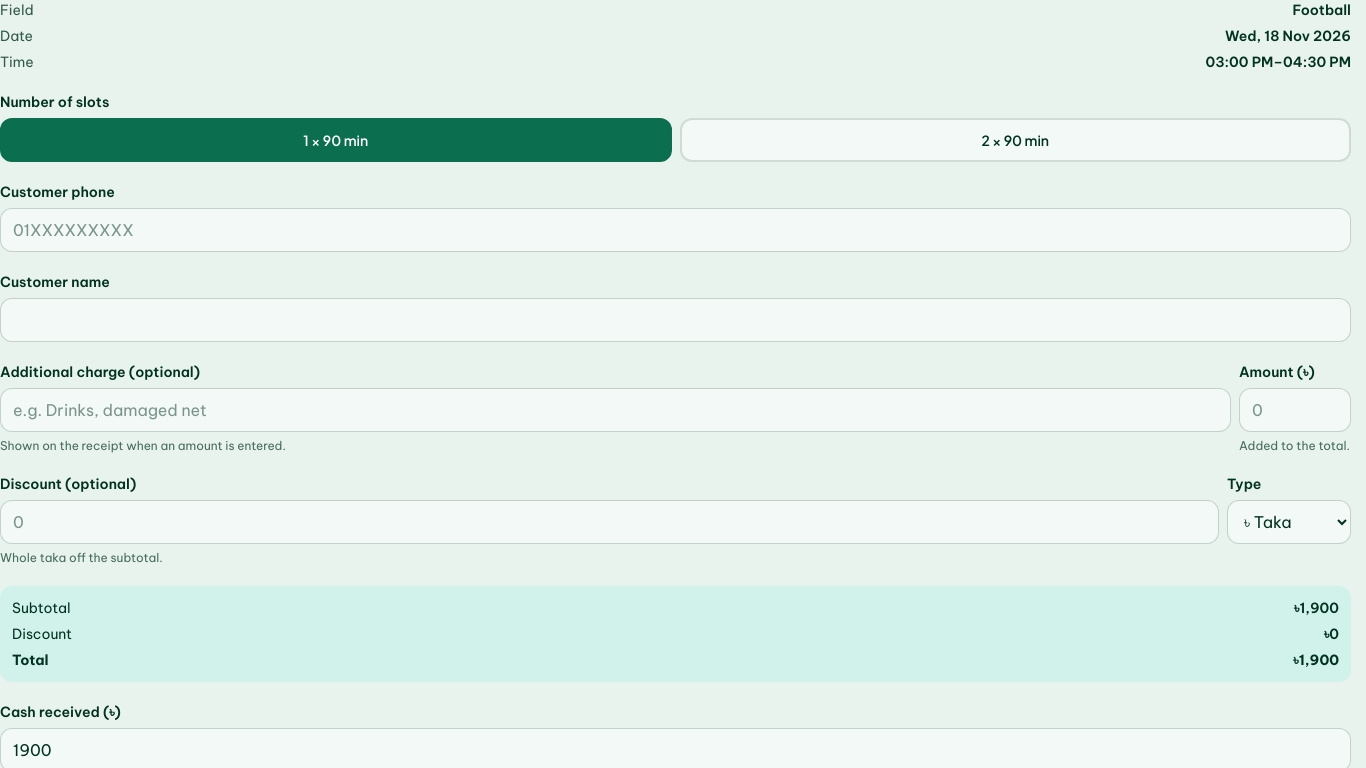
Test case: WalkInForm note › sends the note with the booking and shows it on the confirmation
In the field labelled "Customer phone": (676, 230) x1=0 y1=208 x2=1351 y2=252, type "01733334444"
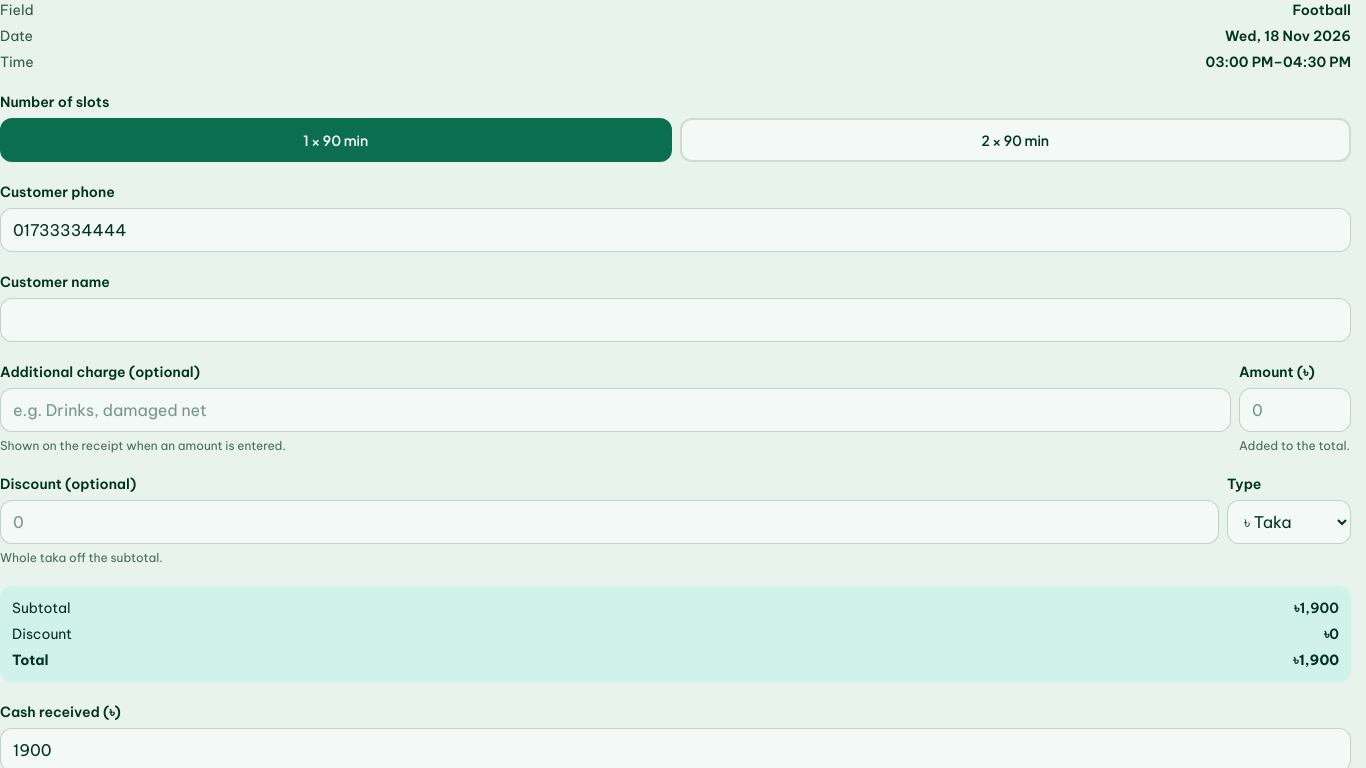
In the field labelled "Customer name": (676, 320) x1=0 y1=298 x2=1351 y2=342, type "Karim"
(page scrolled)
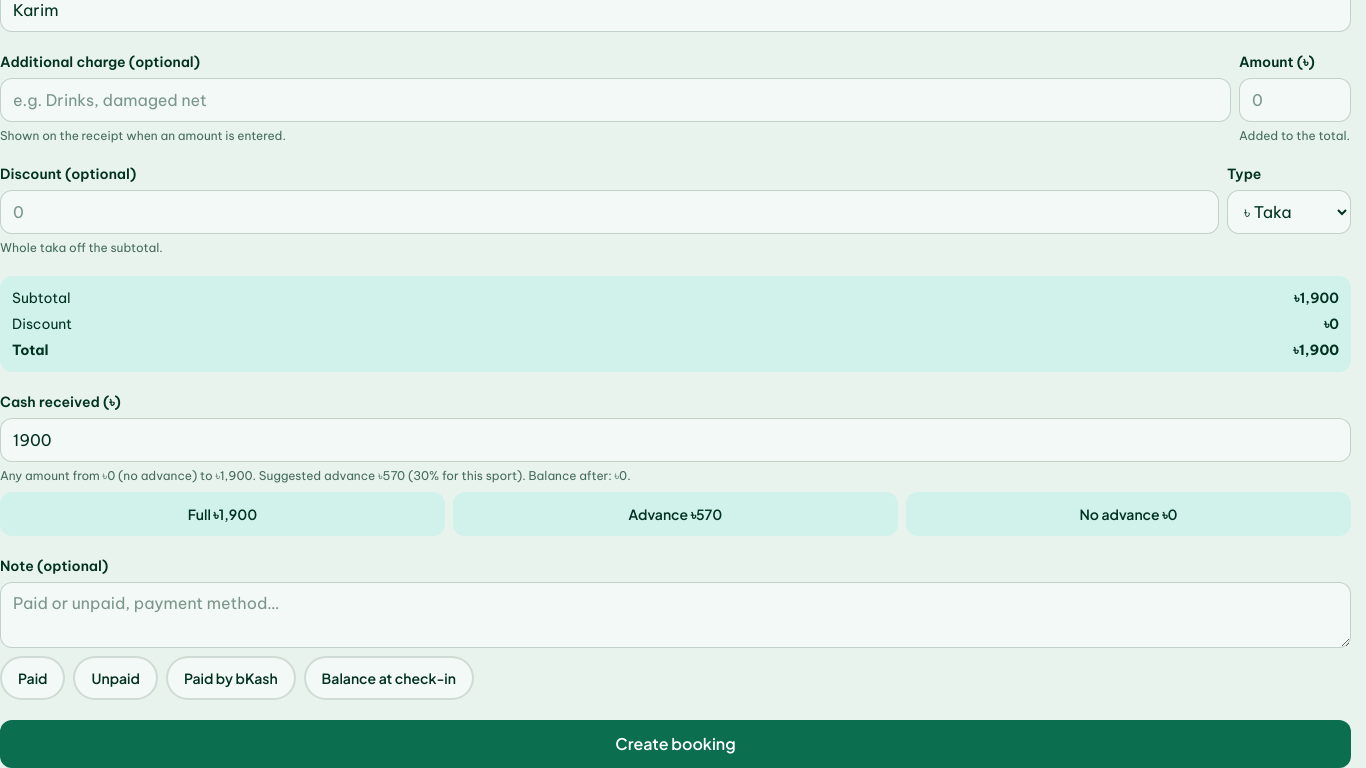
Click the button "Advance ৳570": (676, 514) x1=453 y1=492 x2=898 y2=536
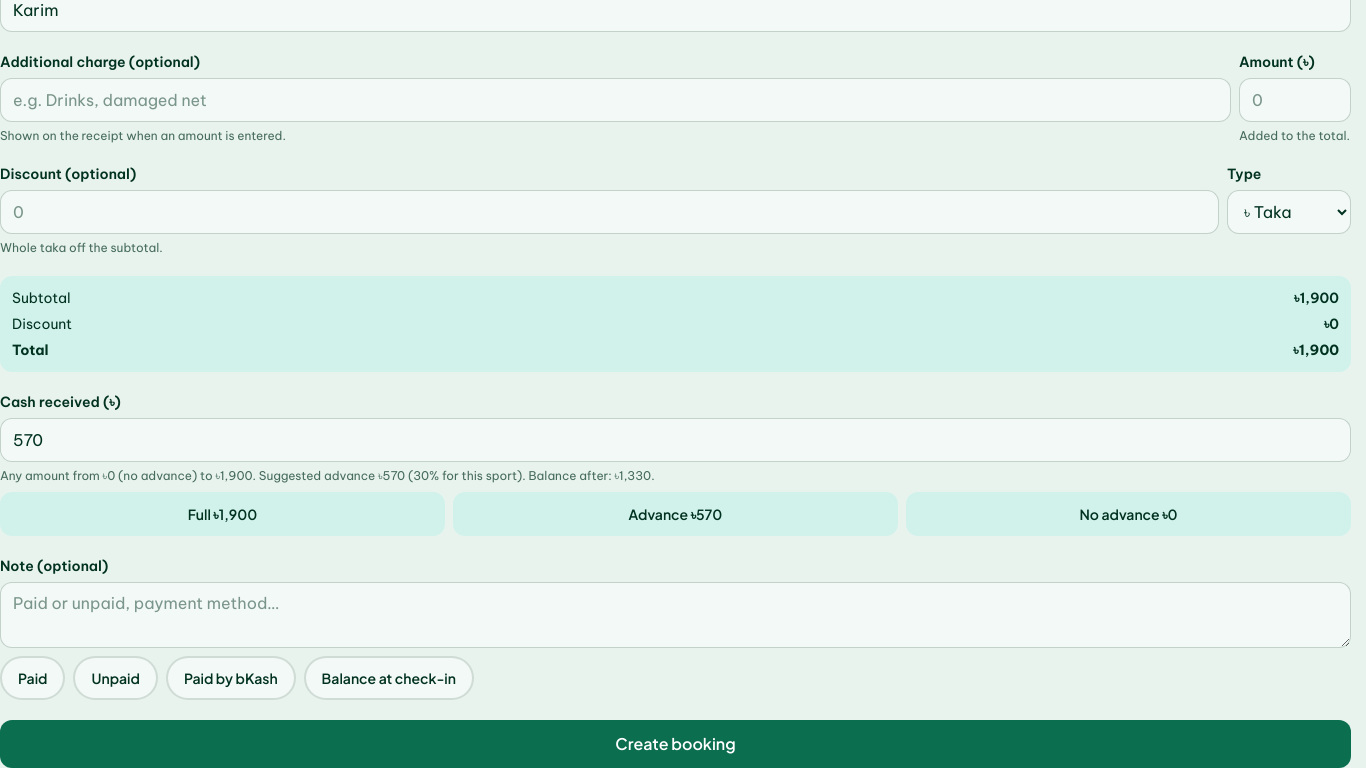
Click the button "Unpaid": (116, 678) x1=74 y1=656 x2=158 y2=700
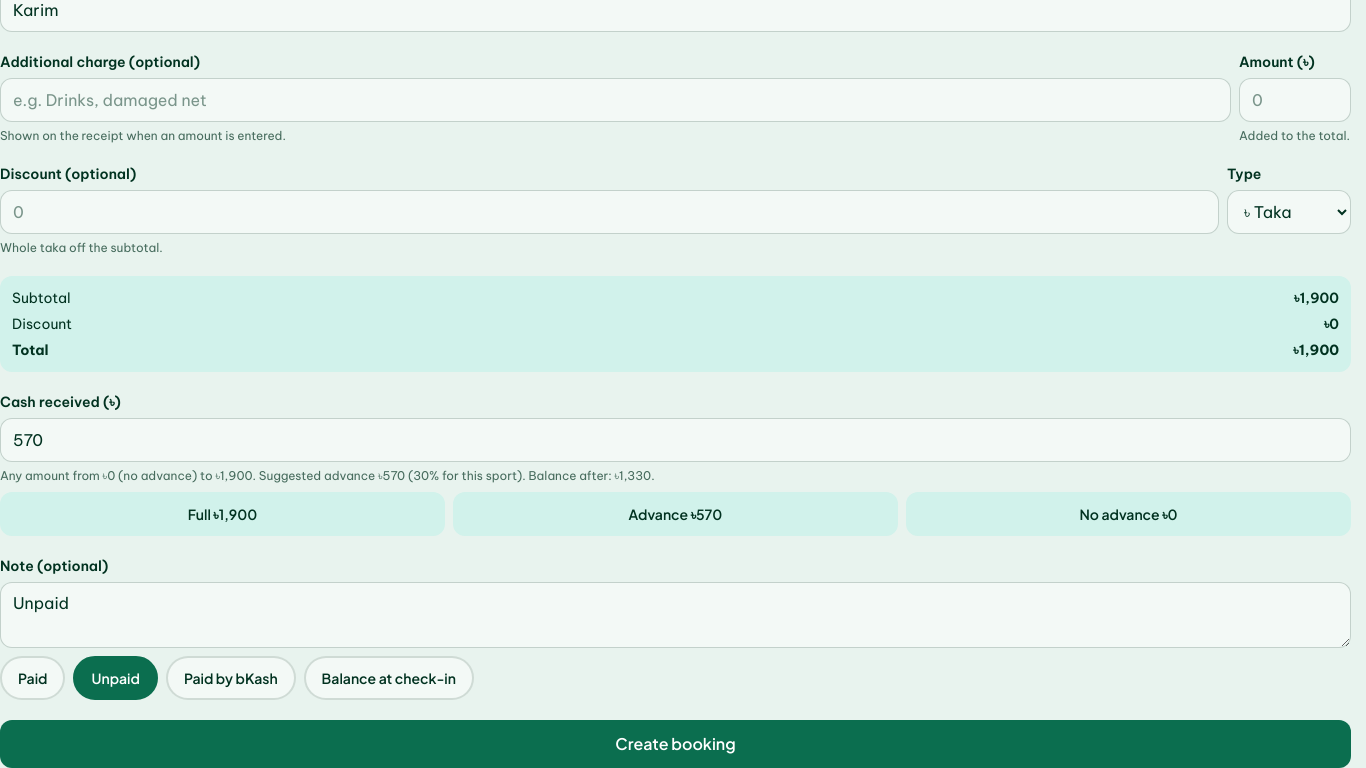
Click the button "Create booking": (676, 744) x1=0 y1=720 x2=1351 y2=767
(page scrolled)
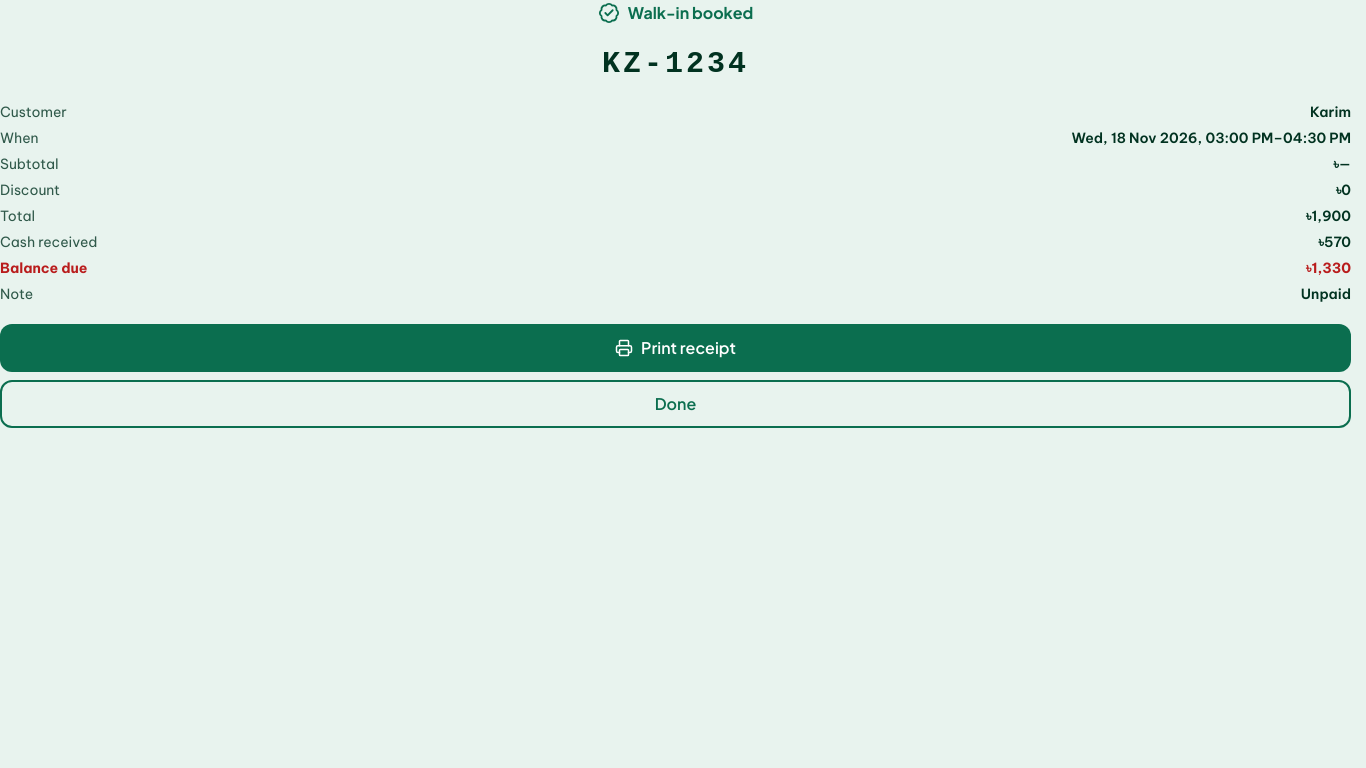
Expected: the text "Unpaid" is shown, x1=1301 y1=284 x2=1351 y2=304
Expected: the text "Walk-in booked" is shown, x1=598 y1=0 x2=753 y2=26
